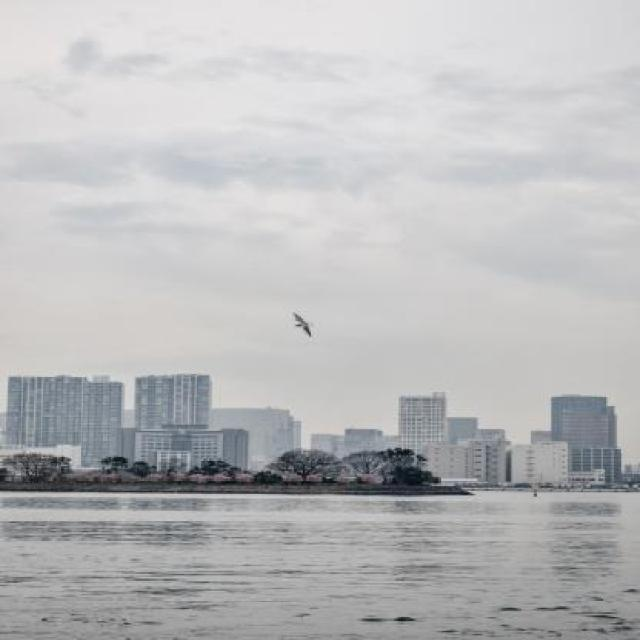bird: (291, 314, 315, 338)
